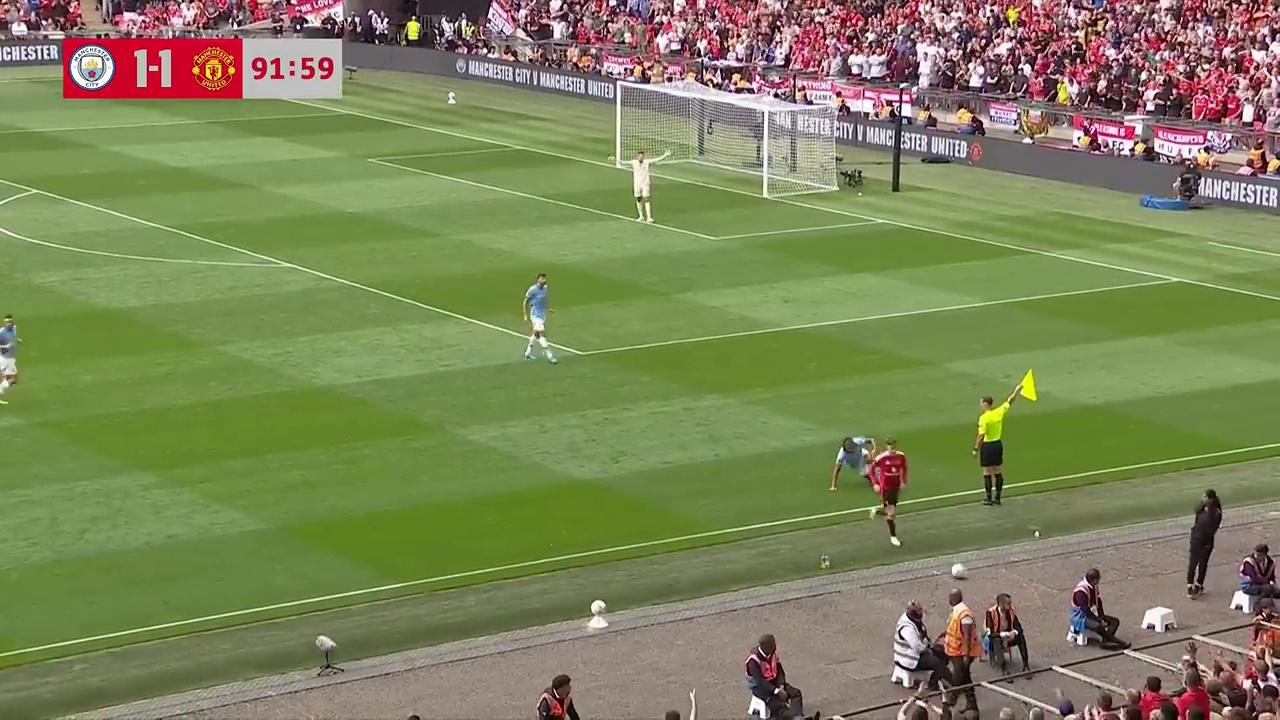player: (521, 272, 558, 363), (874, 437, 907, 529), (829, 435, 871, 492), (0, 314, 21, 401), (631, 155, 653, 223)
referee: (972, 390, 1006, 507)
